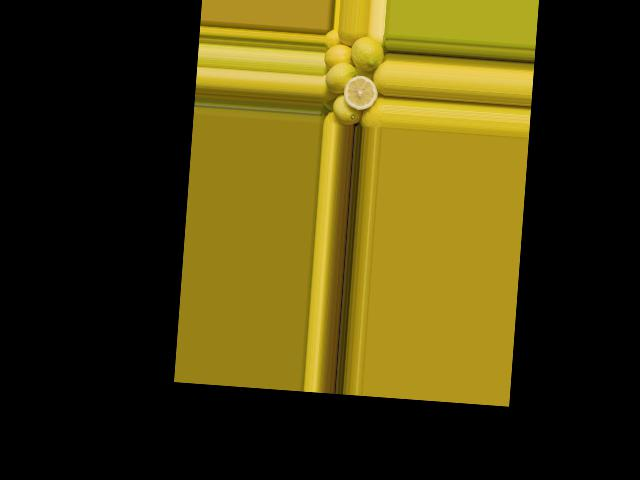lemon: (332, 97, 360, 124)
